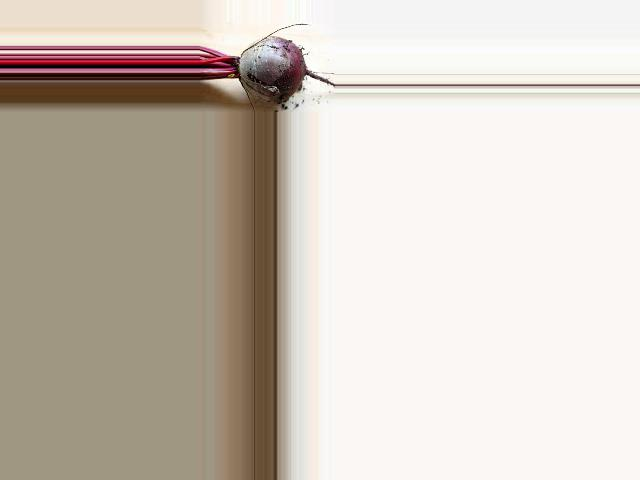beet: (200, 23, 336, 103)
